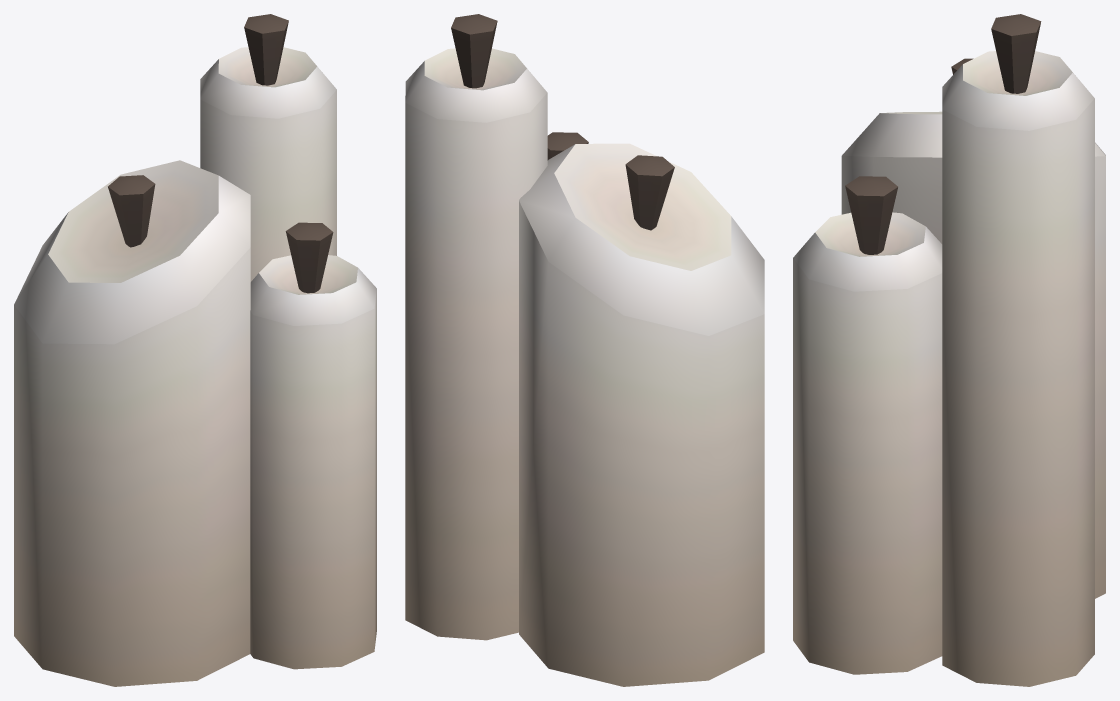
File: kay-candelabro.gltf
3 views of the same model, side by side, from view 1: azimuth 30°, elevation 25°; view 2: azimuth 150°, elevation 25°; view 3: azimuth 270°, elevation 25° (orthographic). The views are drawn at different scales.
Visible parts, largest first — view 1: candle_triple; view 2: candle_triple; view 3: candle_triple.
Boxes of the visible parts, bbox=[...] form: candle_triple: bbox=[14, 14, 376, 686]; candle_triple: bbox=[405, 14, 764, 686]; candle_triple: bbox=[793, 14, 1105, 686].
Size of the model in its own units: 0.3257 by 0.5674 by 0.2535.
Materials: 1 (1 with a texture image).
